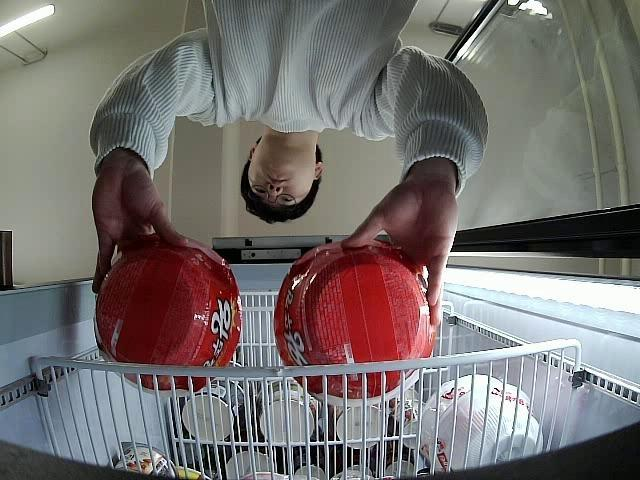10_wangTtukkeong: (274, 242, 434, 408), (94, 237, 242, 396)
